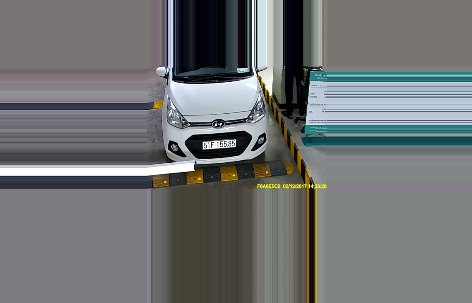plate: (201, 137, 239, 147)
